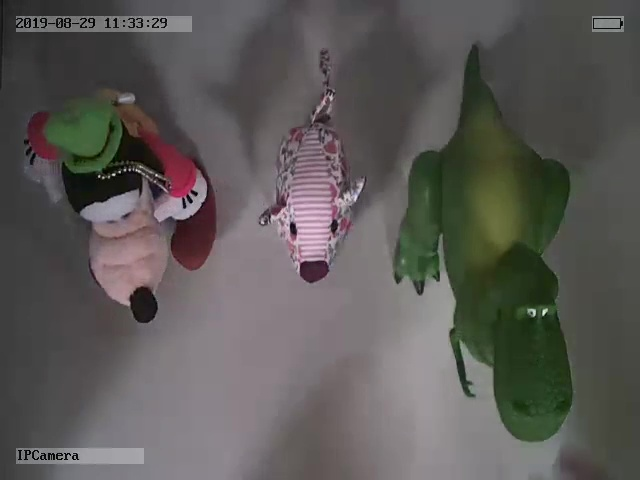goofy: (22, 84, 217, 324)
pig: (260, 48, 368, 285)
rex: (393, 40, 574, 443)
